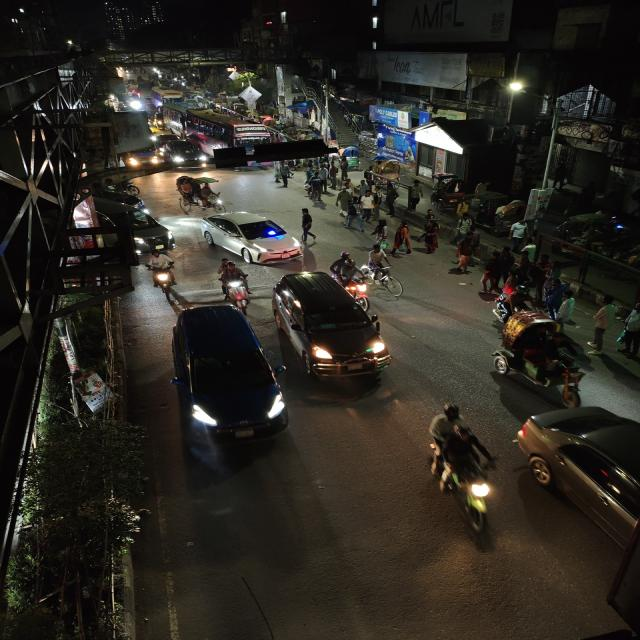bicycle: (365, 244, 407, 301)
bus: (180, 109, 272, 158)
car: (524, 406, 640, 639), (164, 304, 288, 451), (268, 269, 396, 386), (199, 210, 303, 264), (157, 138, 208, 170)
motorcycle: (421, 399, 502, 536), (215, 259, 252, 309), (143, 248, 179, 294)
pedestrian: (586, 296, 622, 354), (619, 294, 640, 366), (452, 228, 483, 274), (480, 250, 510, 294), (555, 290, 582, 330), (526, 261, 548, 301), (543, 274, 565, 314), (420, 218, 444, 254), (335, 185, 356, 225), (304, 170, 326, 208), (391, 220, 414, 256), (379, 179, 401, 213), (506, 220, 530, 250), (358, 189, 379, 222), (271, 162, 295, 189), (405, 178, 423, 212), (298, 206, 316, 234), (372, 217, 391, 243), (319, 164, 336, 190)
rickshaw: (484, 315, 596, 401), (172, 172, 227, 214)
